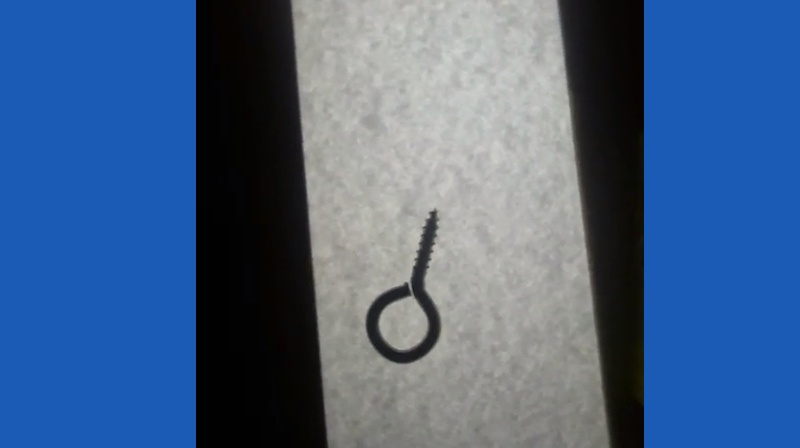O001: (361, 206, 440, 367)
